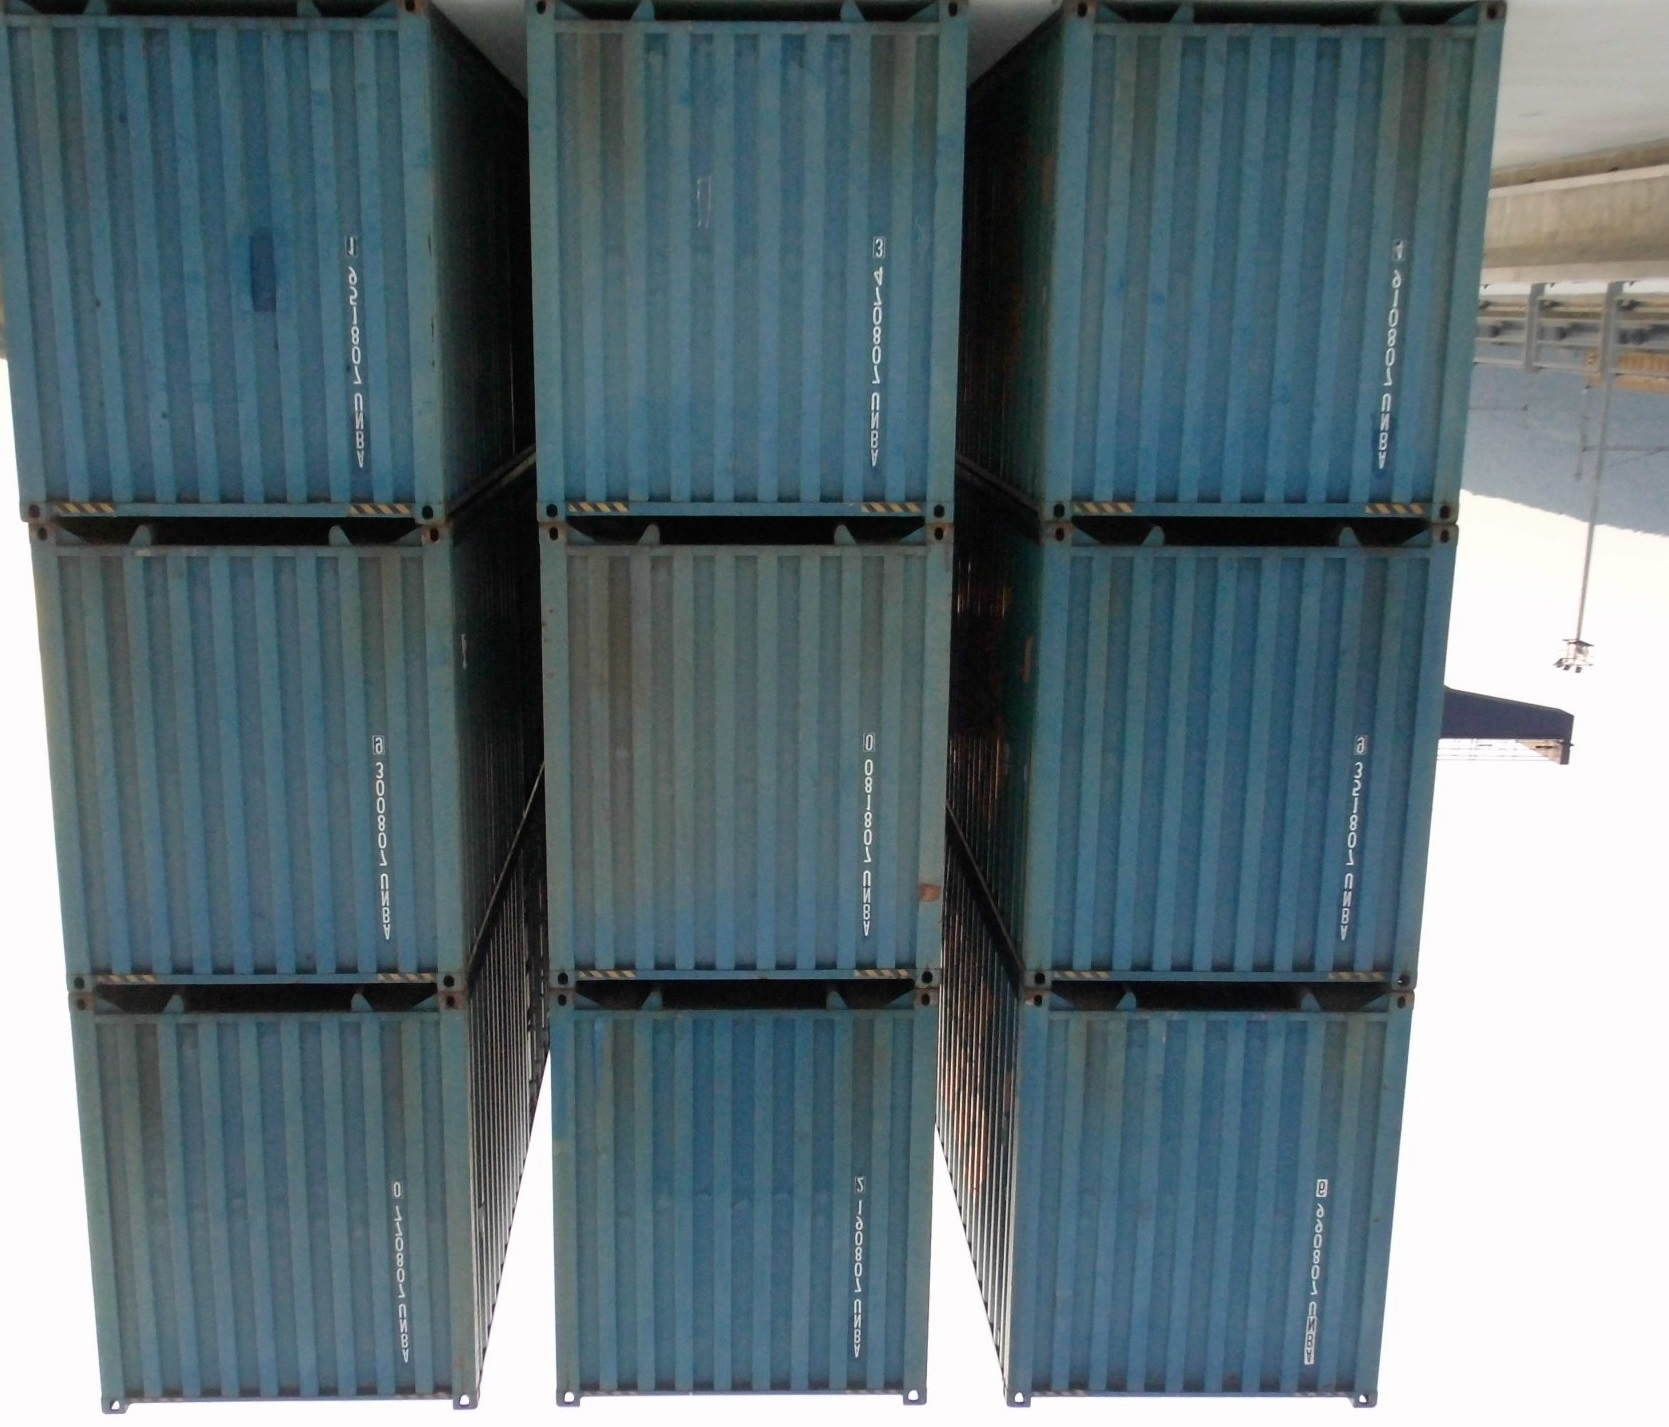container_no_door: (1038, 1, 1505, 529), (512, 1, 980, 529), (1, 1, 454, 518), (20, 520, 478, 997), (1014, 525, 1478, 987), (534, 527, 951, 990), (68, 991, 480, 1423), (1008, 987, 1411, 1409), (542, 990, 927, 1403)
